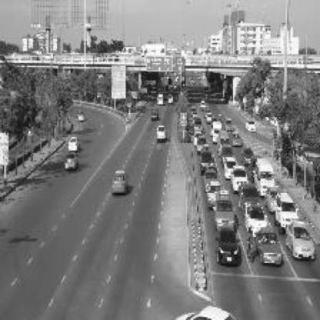other: (111, 160, 130, 194)
